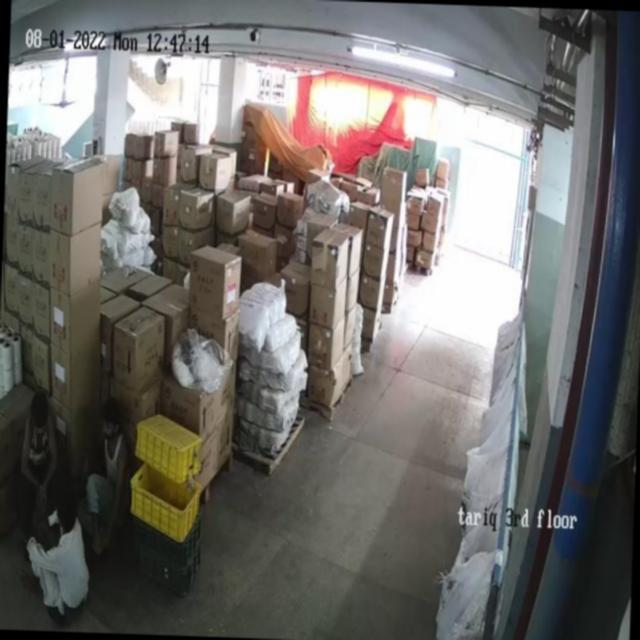person: (33, 503, 94, 607), (84, 416, 132, 536), (21, 396, 62, 500)
